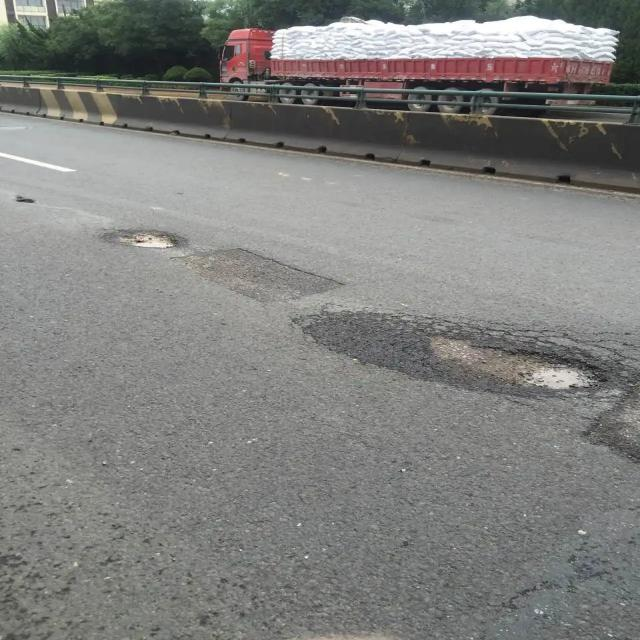Pothole: (305, 299, 612, 406), (92, 225, 193, 253), (5, 192, 44, 206)
